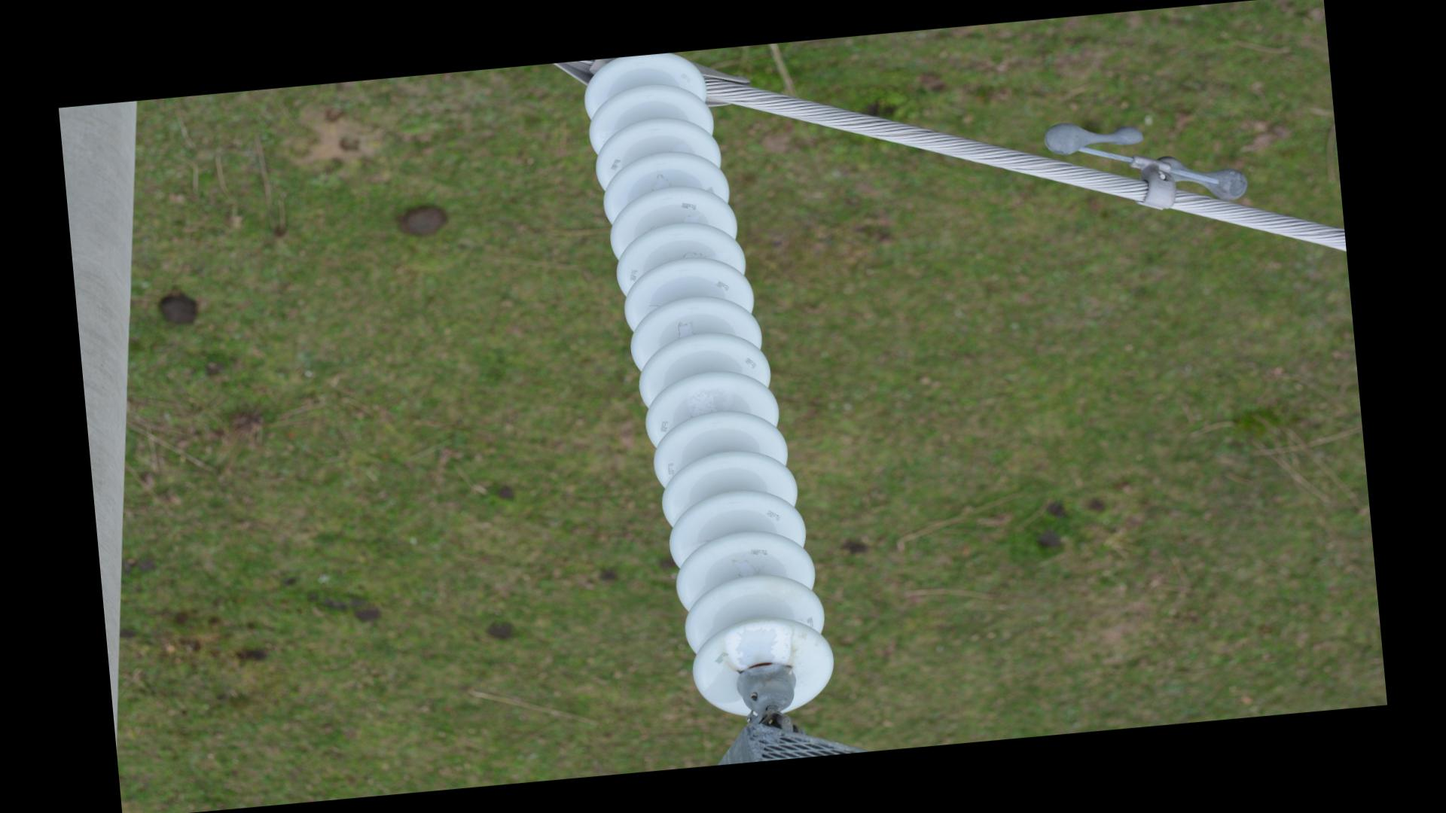damper: (1039, 102, 1255, 226)
